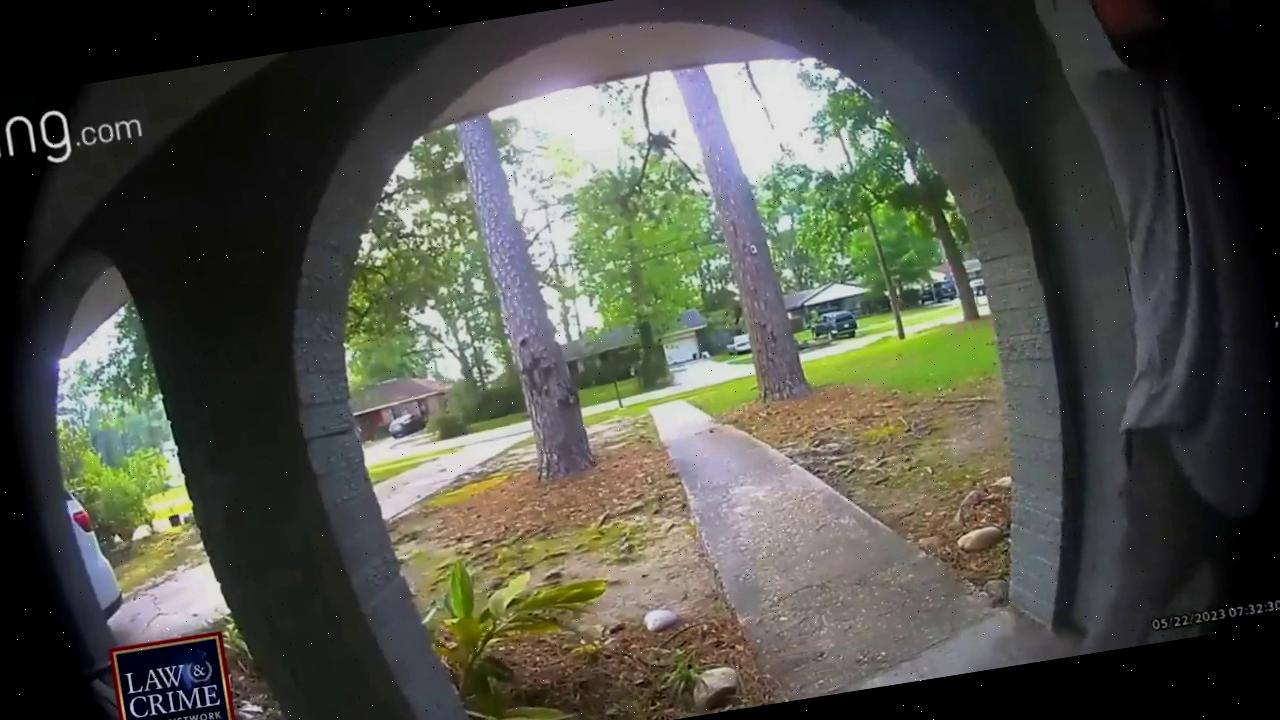suspicion: (970, 0, 1280, 654)
